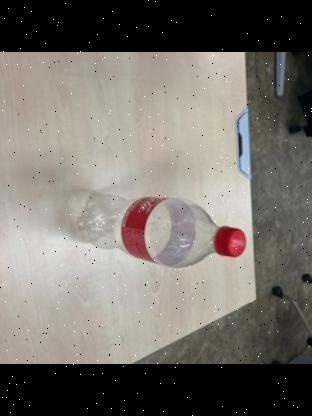Plastic Bottle: (66, 193, 250, 269)
